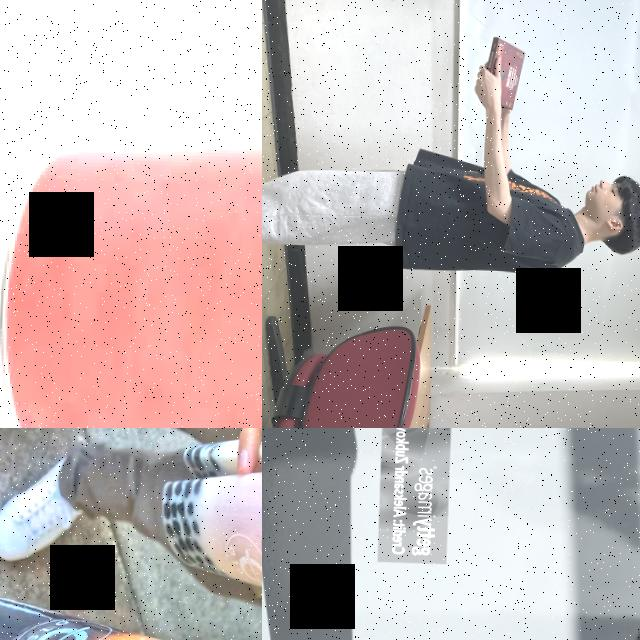can: (0, 128, 262, 428)
cup: (157, 428, 262, 625), (0, 587, 262, 640)
